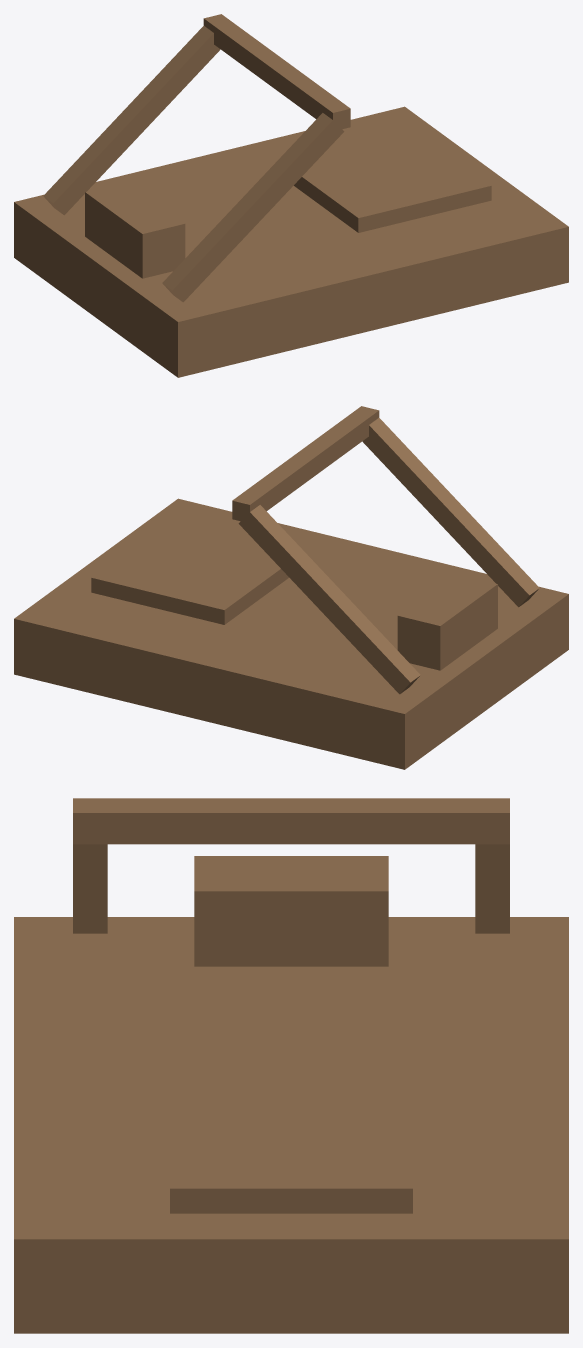
Rendered from mousetrap.glb.
3 renders of one model, top to bottom at view 1: azimuth 30°, elevation 25°; view 2: azimuth 150°, elevation 25°; view 3: azimuth 270°, elevation 25°, orthographic. The views are drawn at different scales.
Visible parts, largest first — view 1: Mousetrap; view 2: Mousetrap; view 3: Mousetrap.
Boxes of the visible parts, x1,y1,x2,y2 form: Mousetrap: (14, 14, 568, 377); Mousetrap: (14, 406, 568, 769); Mousetrap: (14, 798, 568, 1333).
Size of the model in its own units: 0.22 by 0.113 by 0.16.
